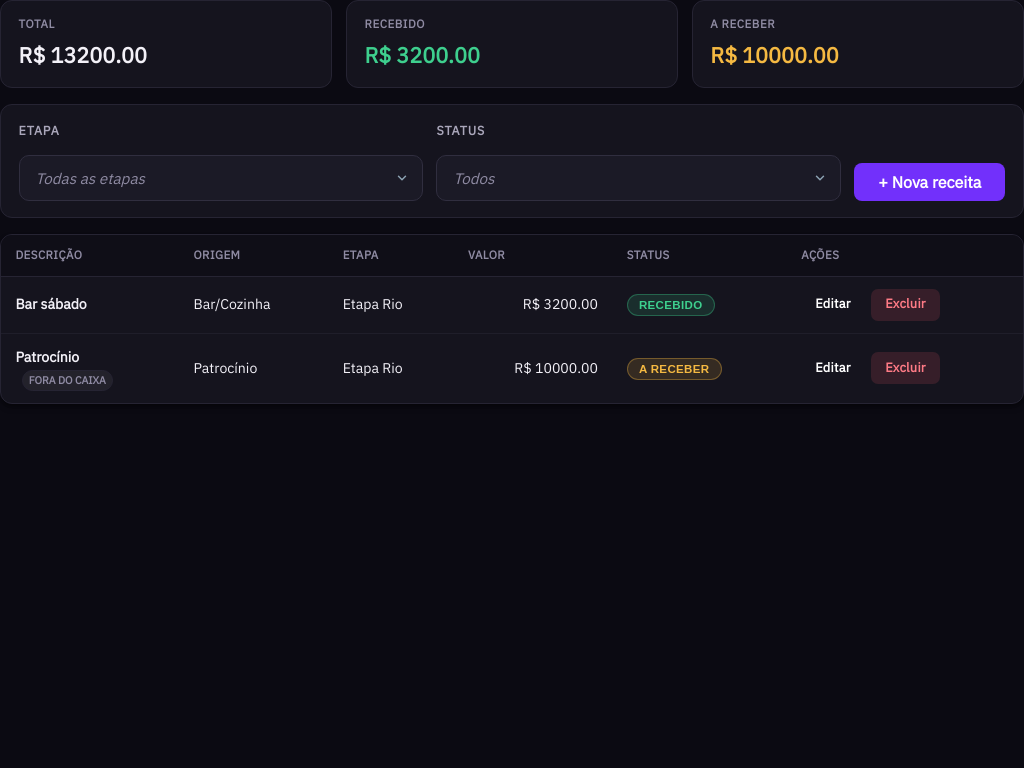
Test: criação › etapa é obrigatória
The image size is (1024, 768).
Expected: the row that starts with "Bar sábado" is shown, x1=1 y1=276 x2=1023 y2=333
Click the button "+ Nova receita": (930, 182) x1=854 y1=163 x2=1005 y2=201
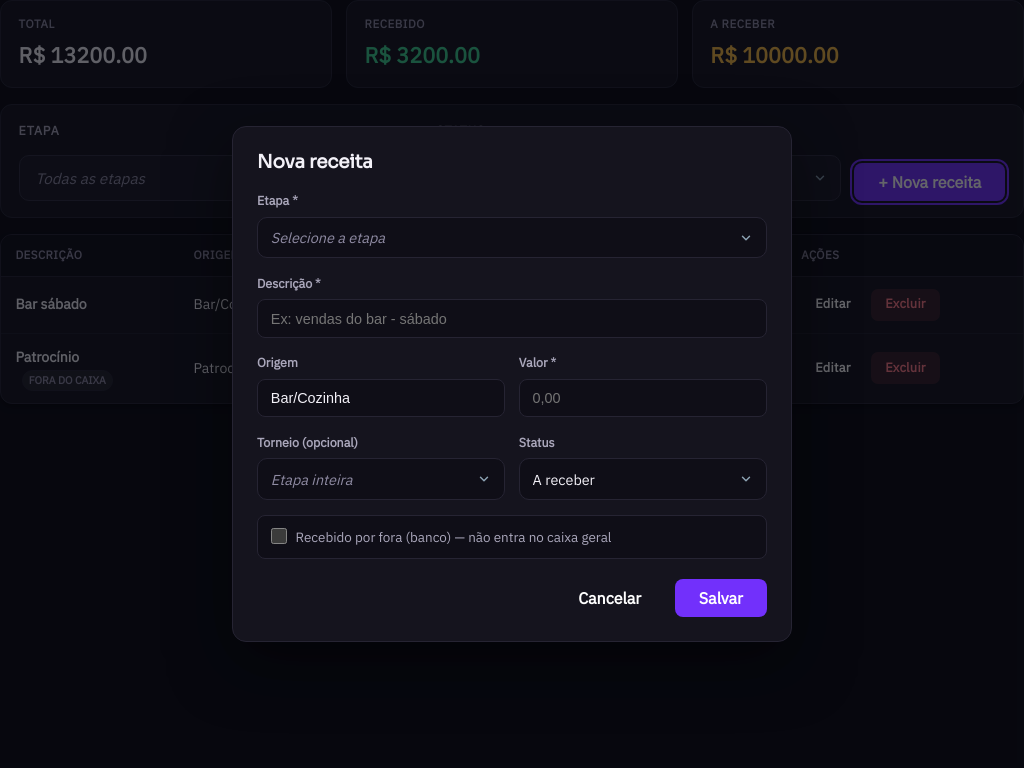
In the field with placeholder "Ex: vendas do bar - sábado": (512, 318) x1=257 y1=299 x2=767 y2=338, type "X"
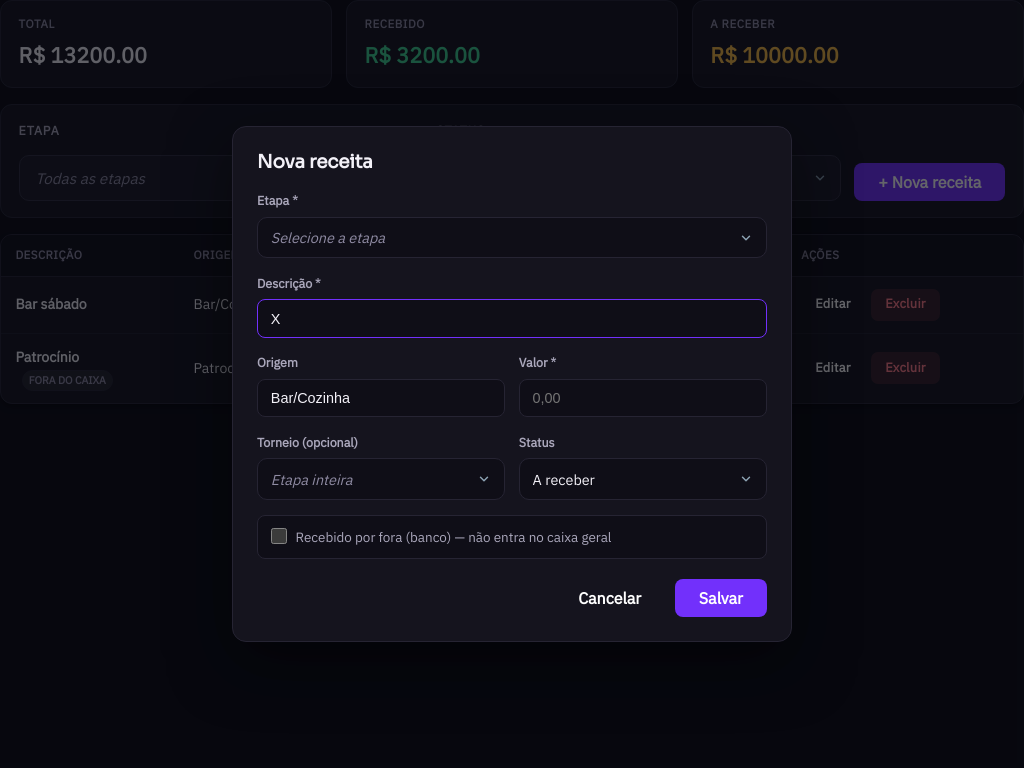
In the number field with placeholder "0,00": (643, 398) x1=519 y1=379 x2=767 y2=418, type "10"
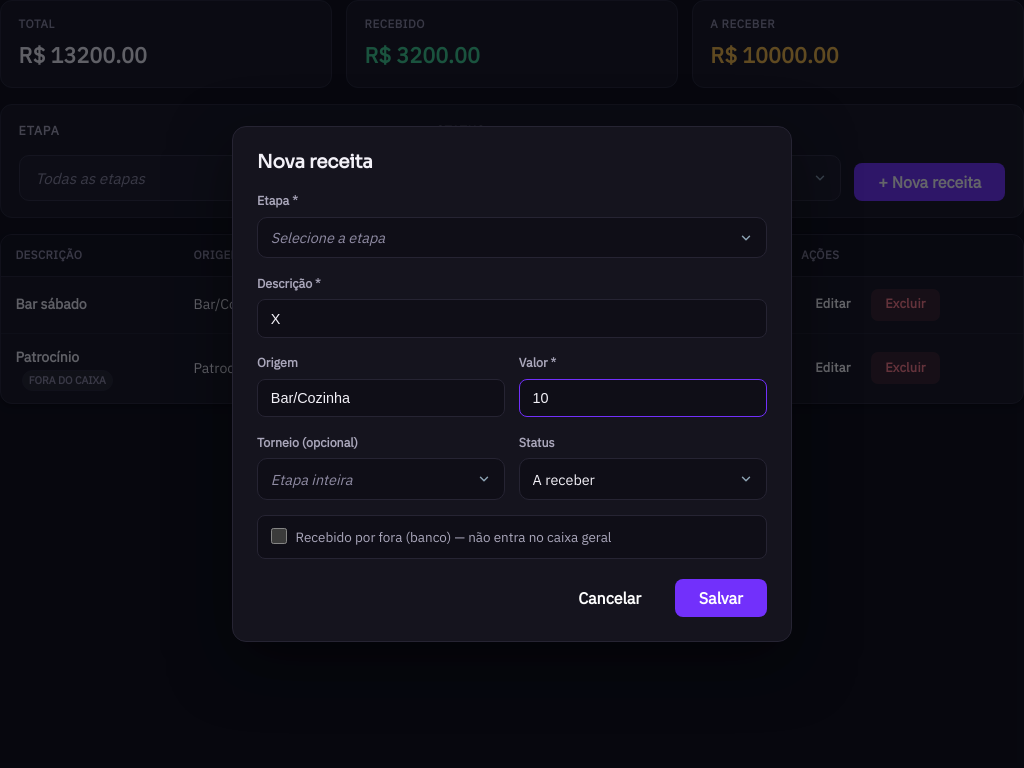
Click the submit button: (721, 598) x1=675 y1=579 x2=767 y2=617
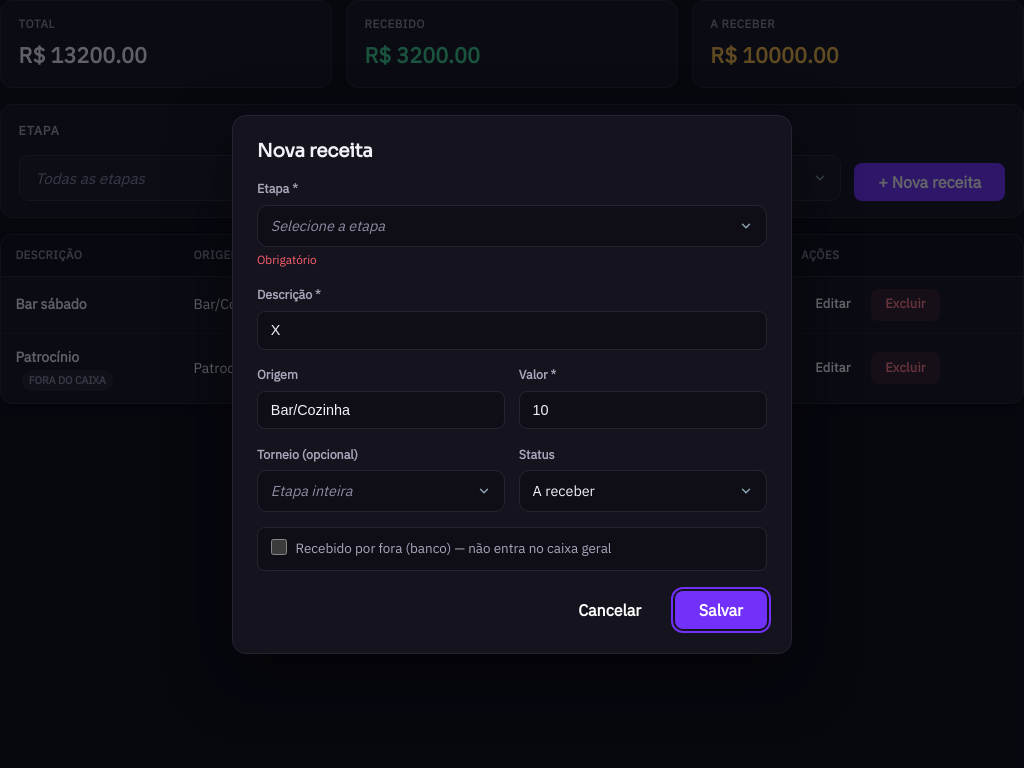
Result: the text "Obrigatório" is shown at x1=257 y1=252 x2=317 y2=267
